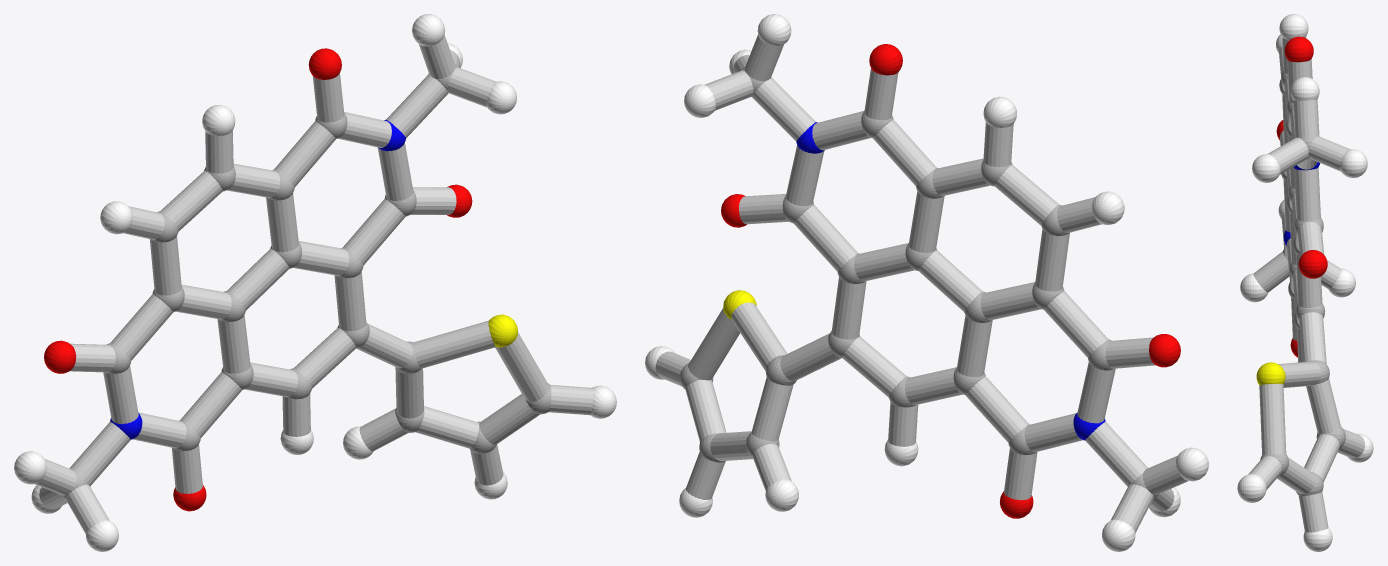
File: Dimethyl_Naphthalene_Dicarboximide_Phi_15_Theta_210_Thiophene.glb
The picture shows the model from 3 angles, left to right: view 1: azimuth 30°, elevation 25°; view 2: azimuth 150°, elevation 25°; view 3: azimuth 270°, elevation 25°; orthographic projection. The views are drawn at different scales.
Parts seen in each view (by area): view 1: grp14119, grp7241, grp1, grp12309, grp13757, grp11585; view 2: grp14119, grp7241, grp1, grp12309, grp11585; view 3: grp14119, grp7241, grp1, grp12309, grp13757.
Part boxes in pixels (left/top/right/bottom): grp14119: left=34, top=35, right=593, bottom=533; grp7241: left=14, top=14, right=616, bottom=551; grp1: left=60, top=64, right=551, bottom=499; grp12309: left=44, top=48, right=472, bottom=511; grp13757: left=488, top=314, right=517, bottom=347; grp11585: left=110, top=119, right=405, bottom=439; grp14119: left=655, top=34, right=1188, bottom=532; grp7241: left=645, top=14, right=1208, bottom=551; grp1: left=680, top=67, right=1158, bottom=499; grp12309: left=721, top=44, right=1180, bottom=518; grp11585: left=796, top=122, right=1105, bottom=440; grp14119: left=1248, top=36, right=1364, bottom=532; grp7241: left=1237, top=14, right=1373, bottom=551; grp1: left=1260, top=70, right=1345, bottom=495; grp12309: left=1276, top=36, right=1327, bottom=357; grp13757: left=1256, top=362, right=1285, bottom=385.
Bounding box in the file's own units: 11.98 × 10.06 × 2.8.
